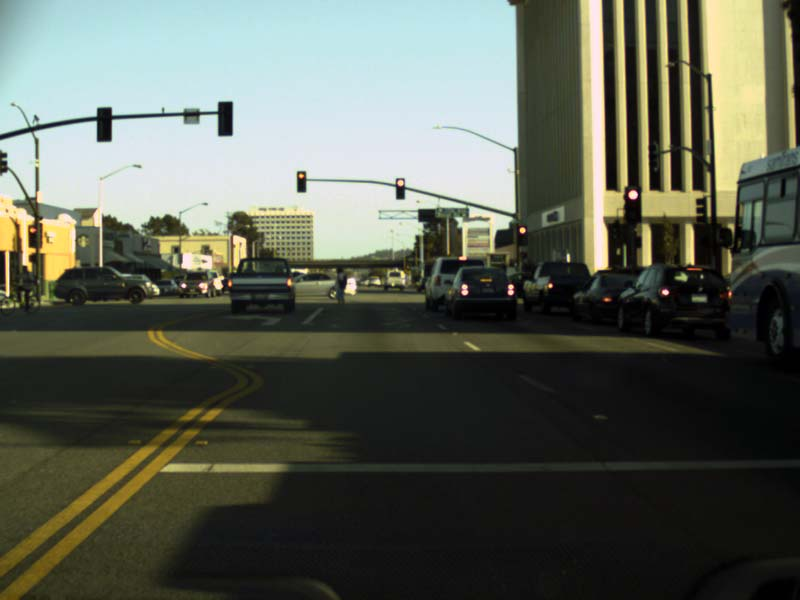Red: (625, 186, 642, 221), (28, 225, 39, 247), (518, 224, 528, 246), (296, 171, 306, 192), (395, 177, 405, 198)
